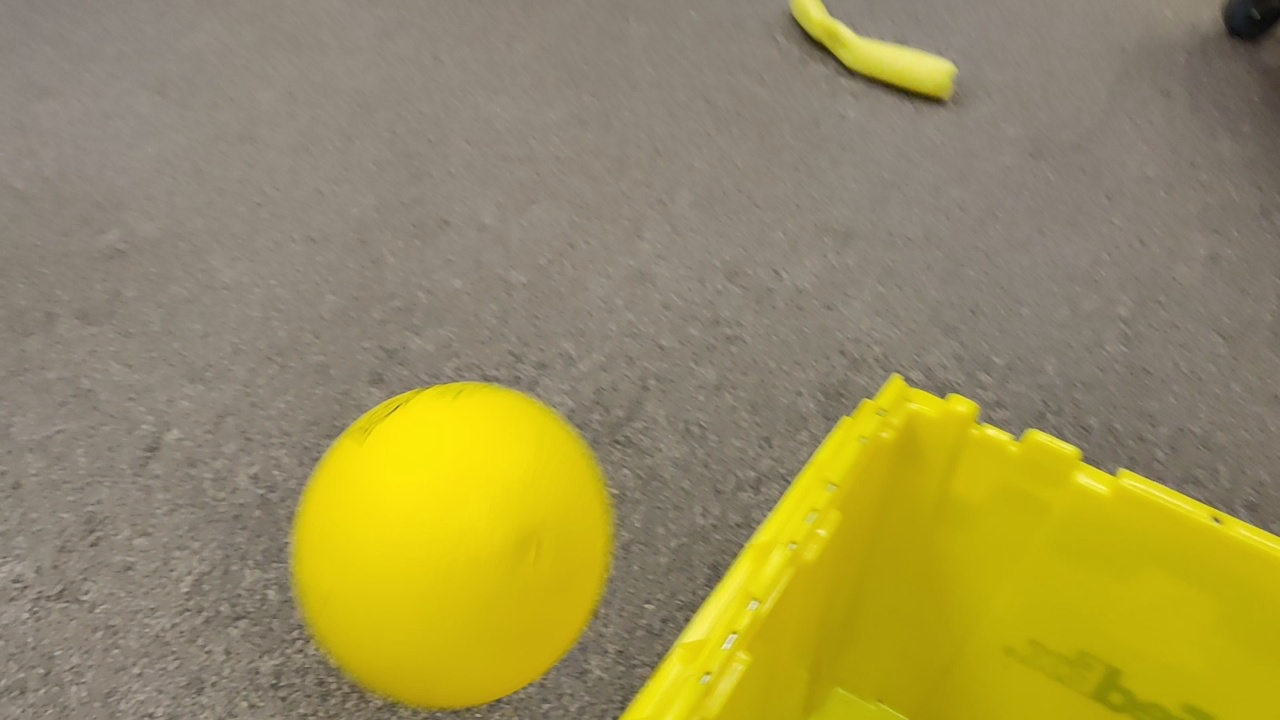Ball: (288, 381, 615, 706)
